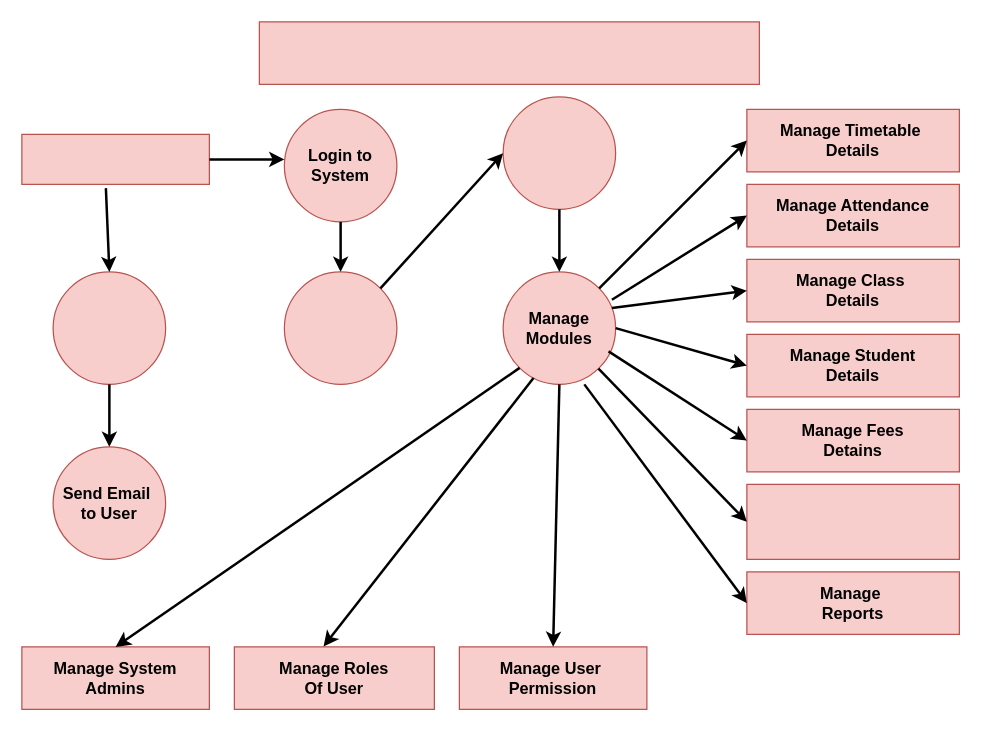
This 981x731 diagram has some shape labels left out. The shapes that lost their labels are listed below. From the top down, each one's centre as x and y in pixels, then its label:
At point (508, 52): "Student Information System".
At point (115, 158): "Admin".
At point (559, 152): "Check Roles of Access".
At point (109, 327): "Forget Password".
At point (340, 327): "Check Credentials".
At point (852, 521): "Manage Teacher Profiles".
